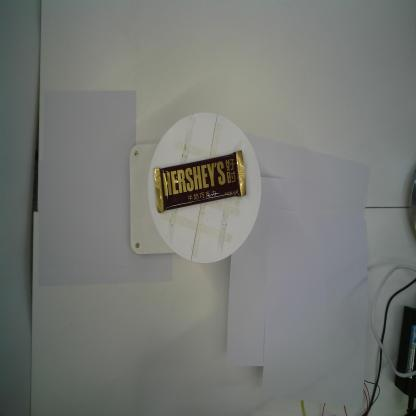Chocolate: (150, 148, 246, 214)
